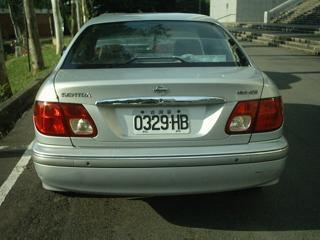plate: (131, 105, 190, 136)
